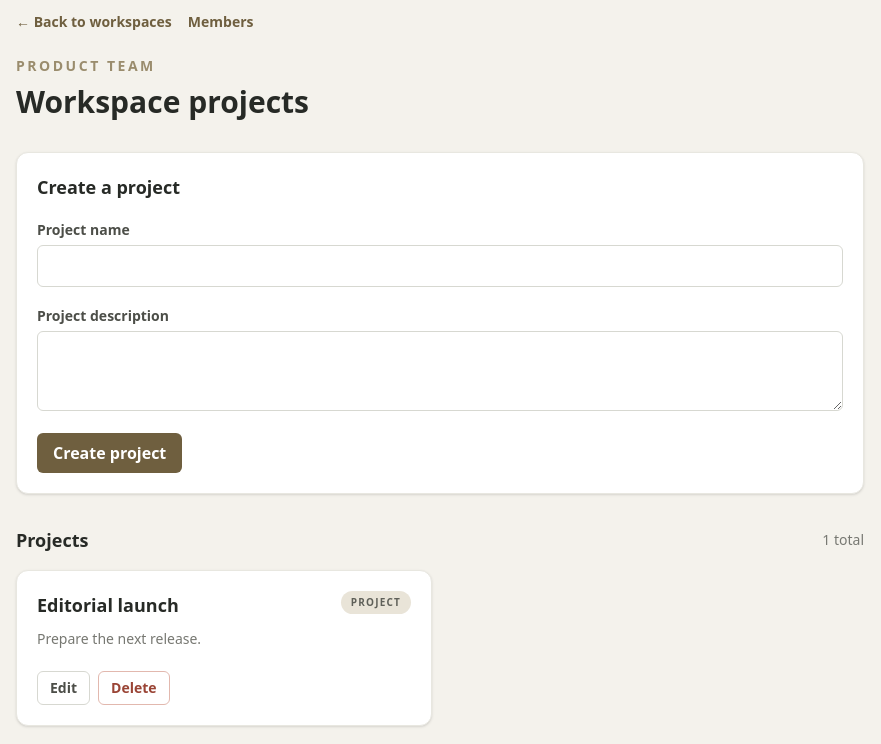
WorkspaceProjectsPage › deletes a project through the workspace-scoped endpoint
Click the button with aria-label "delete editorial launch" at (134, 688), box [98,671,170,705]
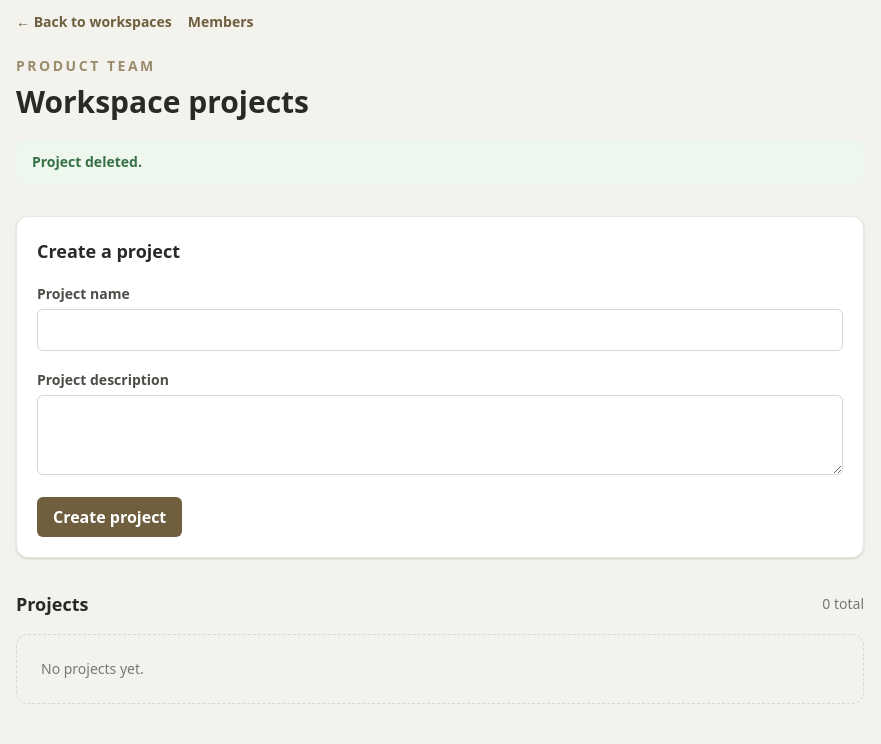
Result: the heading "Editorial launch" is gone
